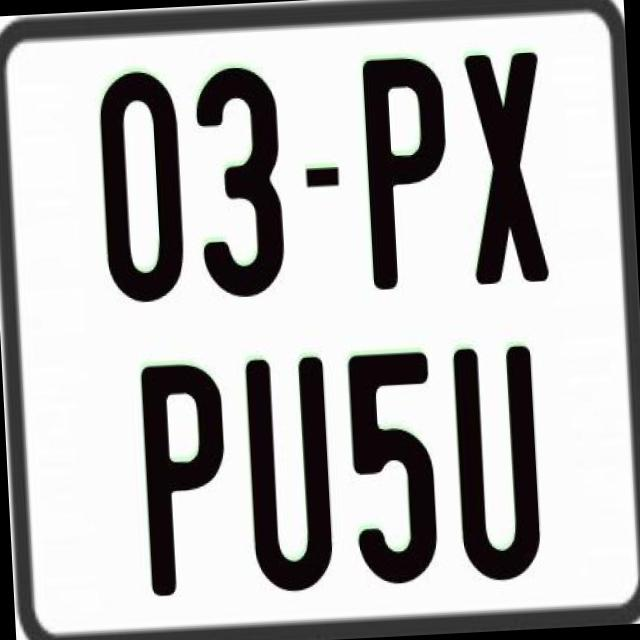0: (94, 68, 188, 304)
3: (190, 64, 290, 300)
5: (347, 347, 442, 590)
P: (140, 357, 236, 601), (361, 52, 456, 287)
U: (240, 355, 336, 591), (451, 341, 541, 580)
X: (461, 52, 547, 290)
